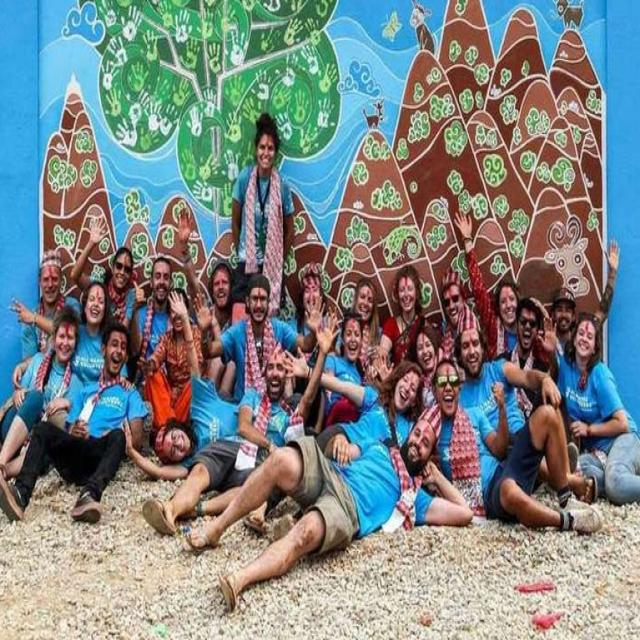body: (181, 396, 476, 617), (139, 311, 345, 538), (240, 343, 428, 546), (430, 354, 606, 540), (0, 316, 152, 528), (452, 299, 599, 505), (7, 278, 131, 482), (123, 288, 240, 484), (191, 270, 327, 406), (555, 311, 640, 508), (0, 303, 88, 482), (452, 206, 550, 364), (230, 109, 296, 322), (134, 286, 208, 440), (550, 235, 621, 368), (8, 248, 82, 363), (68, 214, 138, 332), (496, 298, 559, 420), (376, 262, 436, 374), (129, 256, 175, 384), (322, 310, 366, 418), (437, 268, 483, 364), (333, 274, 383, 358), (286, 259, 331, 337), (205, 258, 234, 336), (404, 324, 440, 371)
